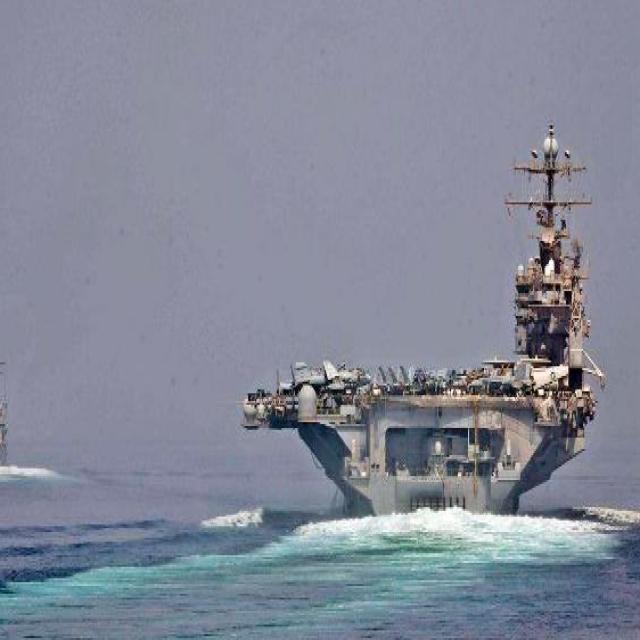navalvessels: (238, 121, 590, 528), (0, 322, 9, 470)
